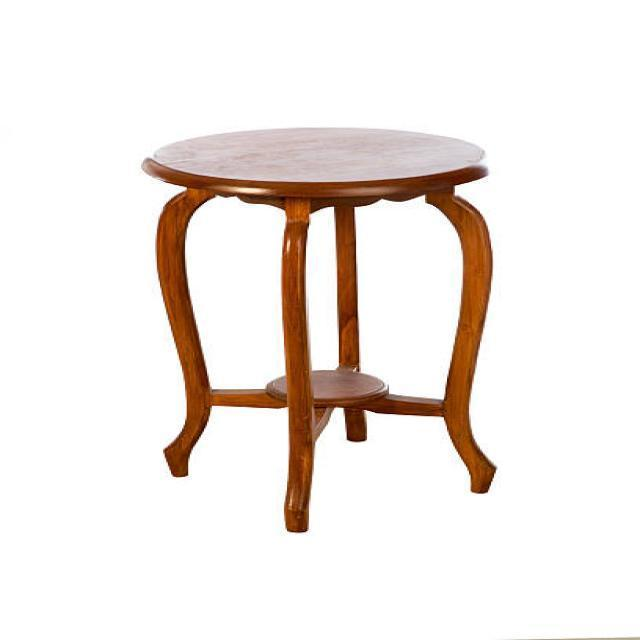table: (140, 125, 498, 532)
